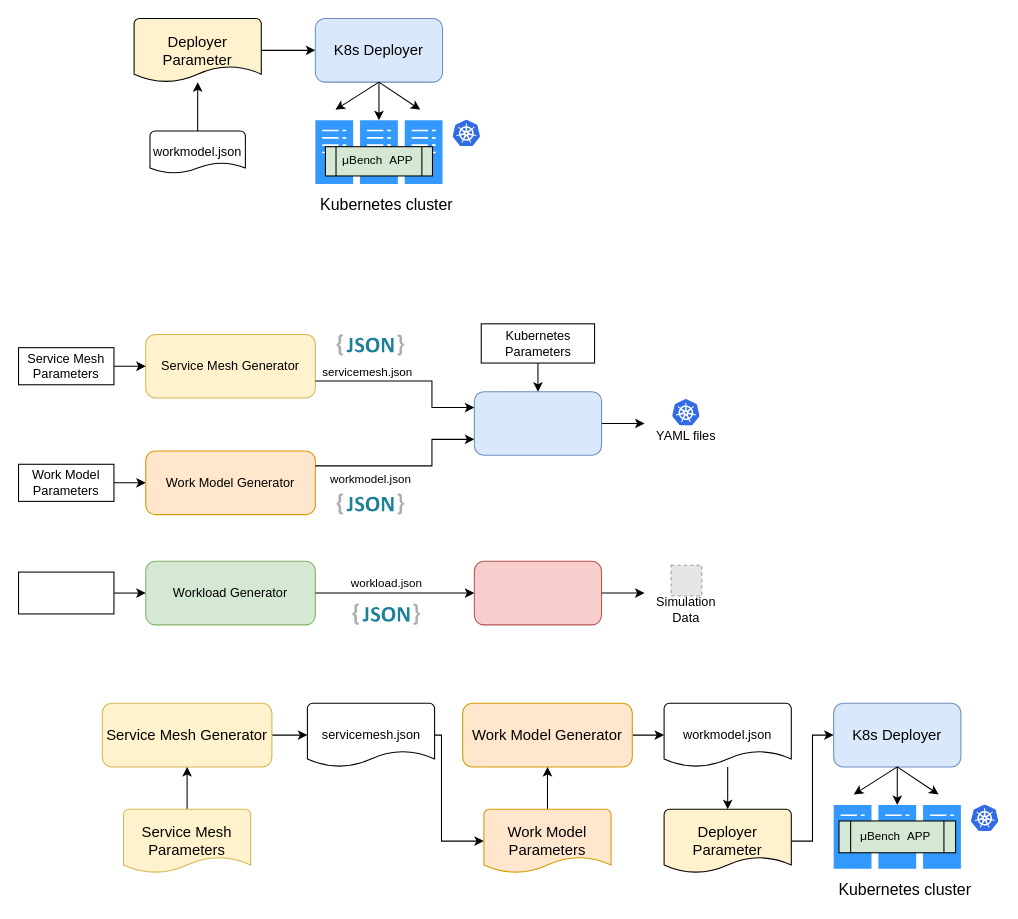
This 1018x919 diagram has some shape labels left out. Grey dashed boxes stand in for pictures. Each missing label, with the centre of its shape:
K8s YAML Builder: pixel 537 423
Runner: pixel 537 592
Workload Parameters: pixel 65 592
